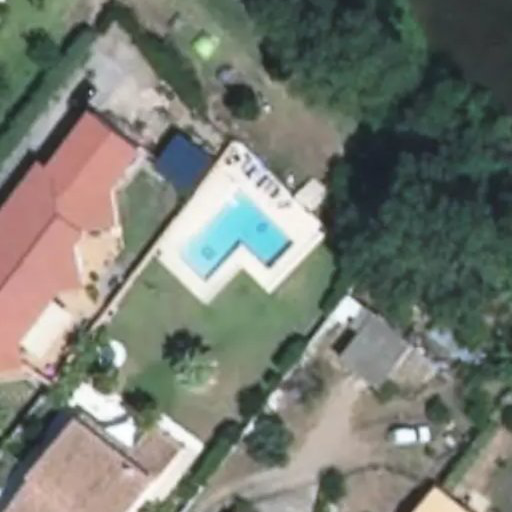pool: (182, 191, 296, 290)
